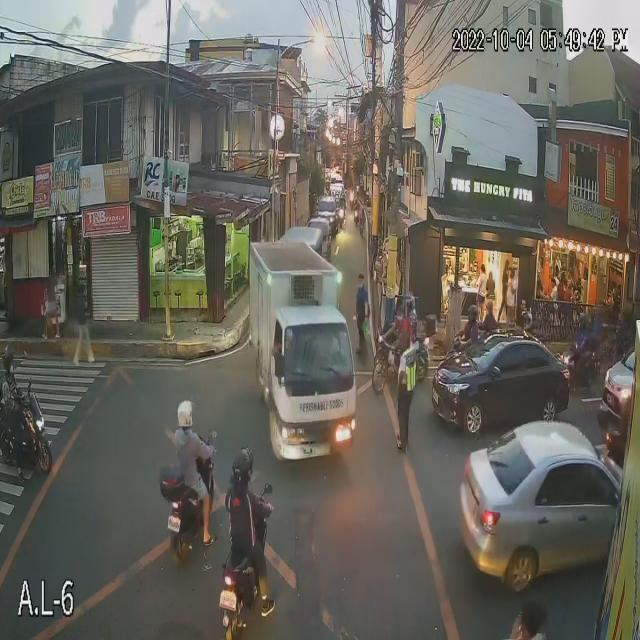helmet: (225, 449, 259, 489), (171, 402, 202, 430), (0, 342, 24, 373), (573, 310, 592, 334), (593, 307, 611, 327), (464, 304, 480, 323), (481, 297, 498, 314), (406, 291, 417, 310)
motorcycle: (211, 520, 287, 638), (162, 449, 223, 556), (0, 396, 51, 483), (372, 329, 436, 370), (559, 347, 605, 389)
rider: (218, 447, 274, 560), (166, 396, 214, 501), (0, 336, 32, 433), (402, 294, 425, 350), (566, 309, 593, 356), (478, 294, 502, 343), (586, 303, 608, 354), (462, 301, 483, 347)
